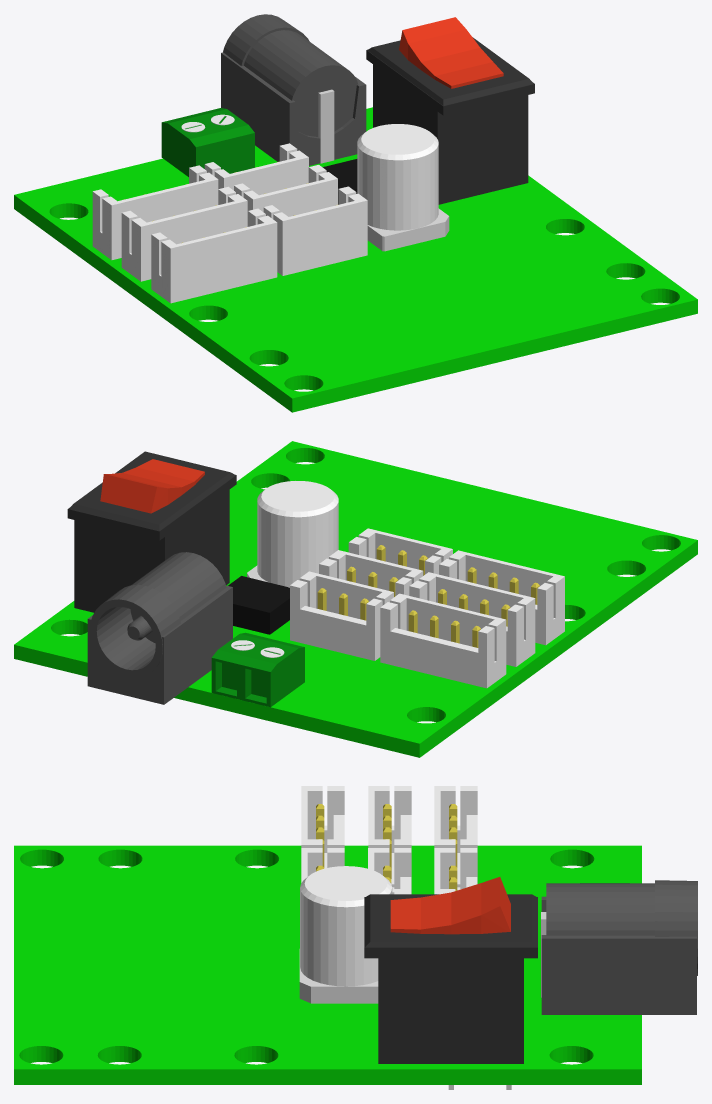
The model's file is u2d2_phb.dae.
3 views of the same model, one above another, from view 1: azimuth 30°, elevation 25°; view 2: azimuth 150°, elevation 25°; view 3: azimuth 270°, elevation 25° (orthographic). The views are drawn at different scales.
Parts seen in each view (by area): view 1: Cube, Cube.030, barrel_jack, Cylinder.008, Cube.001, Cube.035, Cube.016, Cube.006, Cube.011, Cube.034, Cube.031, Cube.020 (+4 smaller); view 2: Cube, Cube.030, barrel_jack, Cube.011, Cylinder.008, Cube.035, Cube.024, Cube.034, Cube.001, Cube.006, Cube.031, Cube.029 (+2 smaller); view 3: Cube, Cube.030, Cube.035, Cylinder.008, barrel_jack, Cube.031, Cube.006, Cube.011, Cube.001, Cube.028, Cube.024, Cube.020 (+1 smaller).
Part boxes in pixels (bbox=[...]): Cube: bbox=[14, 107, 697, 412]; Cube.030: bbox=[366, 37, 534, 204]; barrel_jack: bbox=[223, 14, 358, 136]; Cylinder.008: bbox=[357, 124, 438, 230]; Cube.001: bbox=[151, 208, 277, 303]; Cube.035: bbox=[221, 52, 366, 165]; Cube.016: bbox=[263, 186, 367, 275]; Cube.006: bbox=[121, 186, 247, 281]; Cube.011: bbox=[92, 165, 218, 260]; Cube.034: bbox=[161, 108, 254, 176]; Cube.031: bbox=[399, 17, 503, 88]; Cube.020: bbox=[234, 165, 337, 226]; Cube: bbox=[14, 441, 697, 757]; Cube.030: bbox=[67, 451, 236, 612]; barrel_jack: bbox=[90, 552, 226, 677]; Cube.011: bbox=[380, 593, 506, 688]; Cylinder.008: bbox=[257, 481, 338, 586]; Cube.035: bbox=[87, 585, 232, 704]; Cube.024: bbox=[290, 571, 393, 660]; Cube.034: bbox=[211, 632, 304, 707]; Cube.001: bbox=[439, 550, 564, 645]; Cube.006: bbox=[409, 572, 535, 666]; Cube.031: bbox=[100, 459, 204, 513]; Cube.029: bbox=[228, 576, 289, 634]; Cube: bbox=[14, 845, 641, 1084]; Cube.030: bbox=[364, 894, 537, 1063]; Cube.035: bbox=[541, 896, 696, 1014]; Cylinder.008: bbox=[300, 866, 392, 986]; barrel_jack: bbox=[546, 880, 697, 975]; Cube.031: bbox=[390, 877, 510, 934]; Cube.006: bbox=[368, 786, 411, 893]; Cube.011: bbox=[434, 786, 477, 887]; Cube.001: bbox=[301, 786, 344, 868]; Cube.028: bbox=[299, 949, 378, 1003]; Cube.024: bbox=[434, 848, 477, 894]; Cube.020: bbox=[368, 848, 411, 894].
Size of the model in its own units: 0.048 by 0.0621 by 0.0195.
